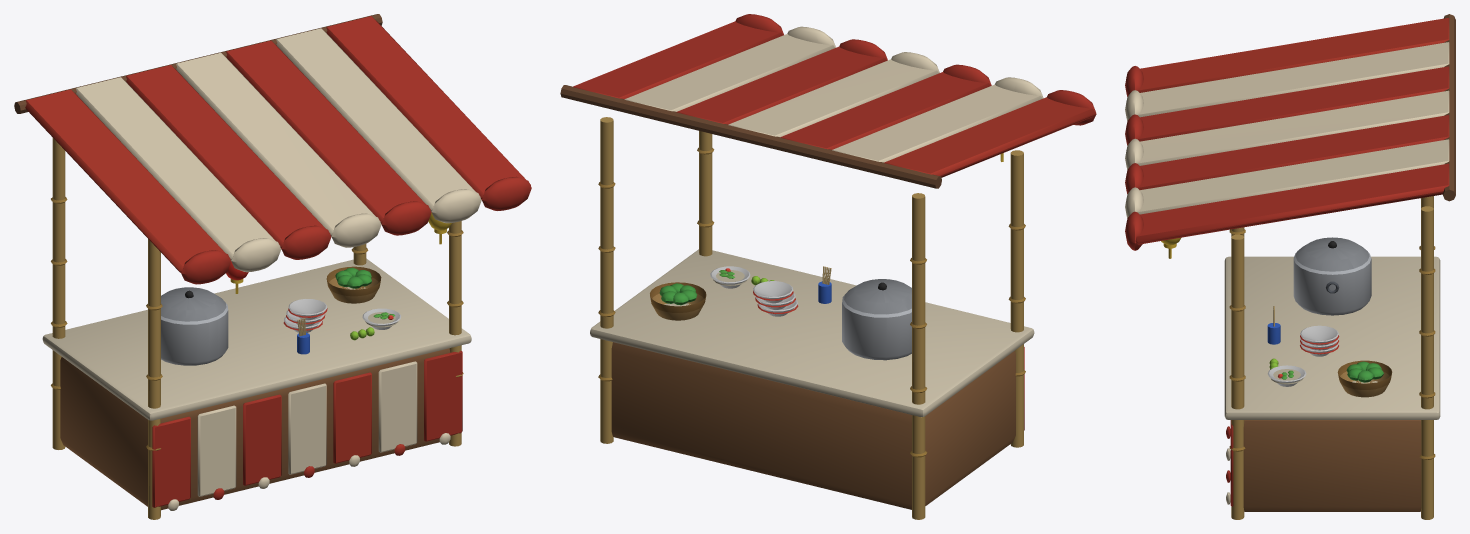
The model's file is pp-stall-bahai.glb.
3 views of the same model, side by side, from view 1: azimuth 30°, elevation 25°; view 2: azimuth 150°, elevation 25°; view 3: azimuth 270°, elevation 25° (orthographic). The views are drawn at different scales.
Size of the model in its own units: 3.2 by 2.91 by 2.55.
